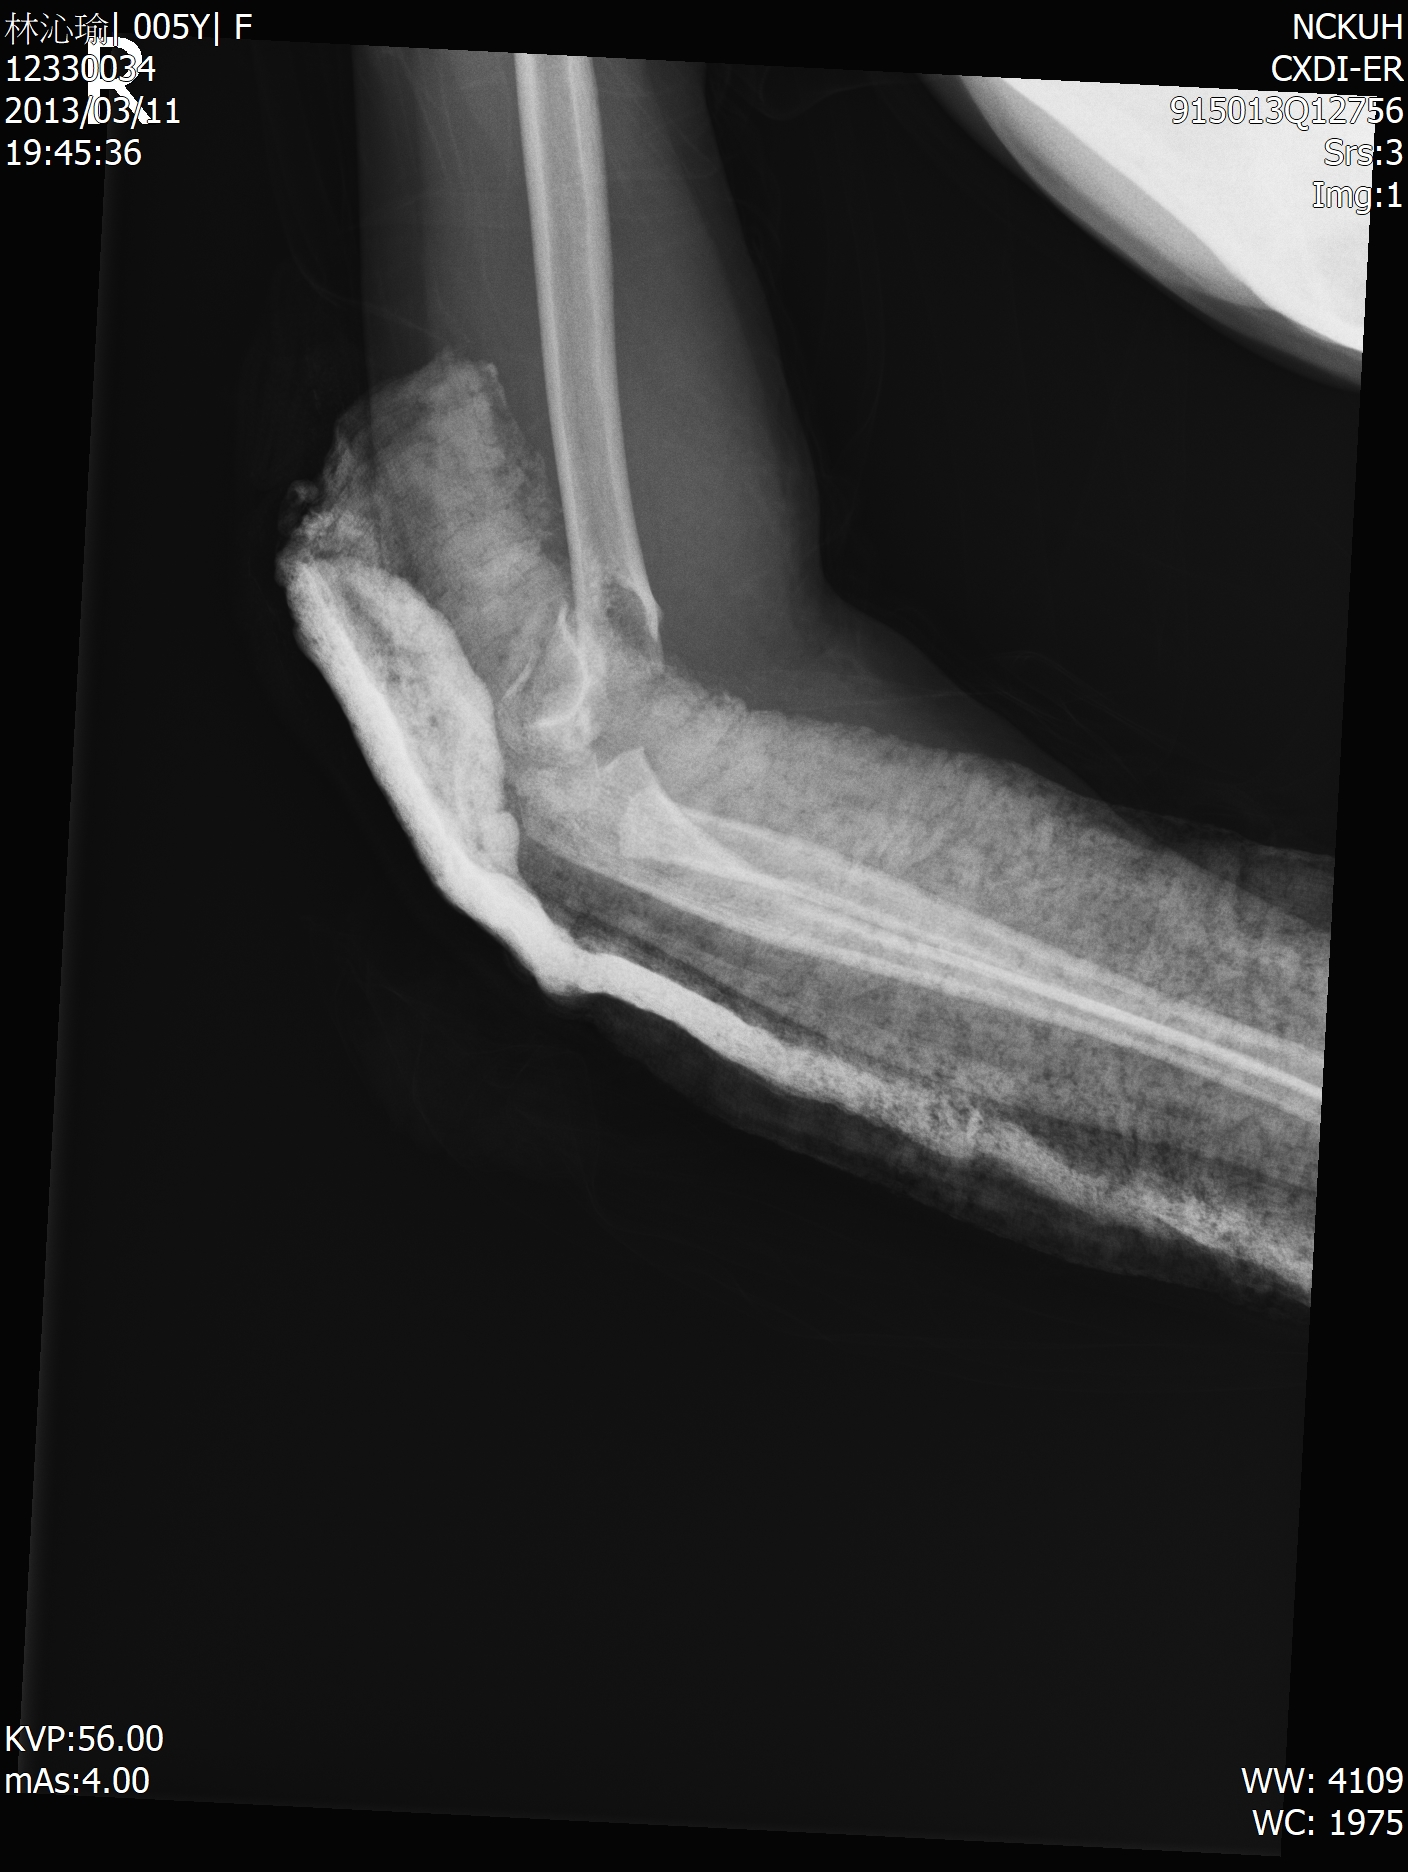SCF type 3: (349, 418, 793, 1019)
